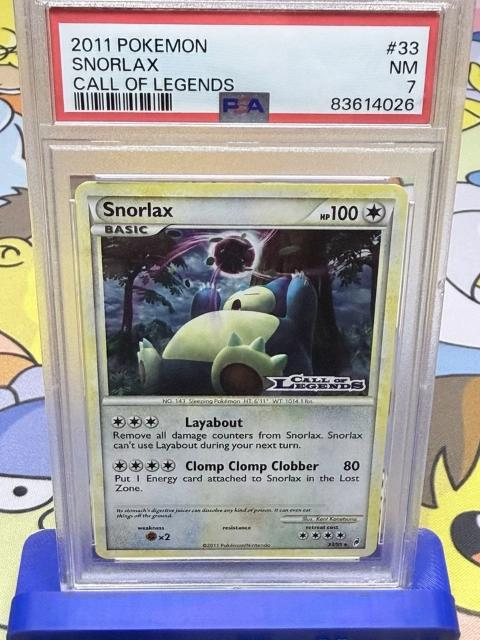Card: (72, 179, 410, 561)
Name: (98, 197, 185, 222)
